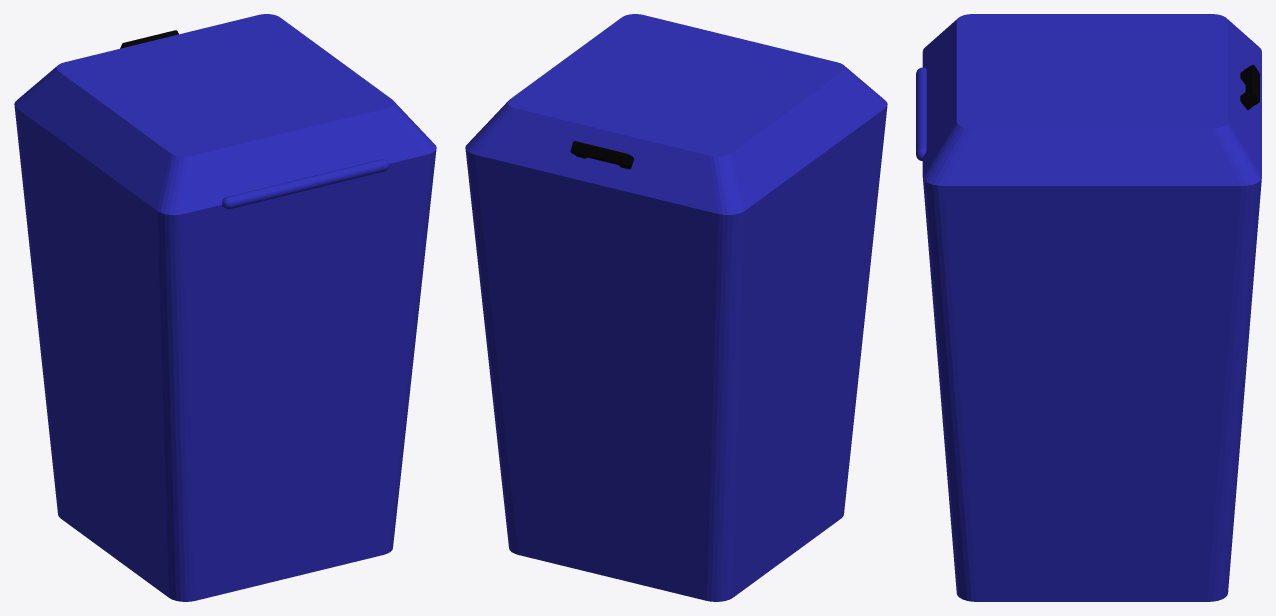
Rendered from Trash.fbx.
The picture shows the model from 3 angles, left to right: view 1: azimuth 30°, elevation 25°; view 2: azimuth 150°, elevation 25°; view 3: azimuth 270°, elevation 25°; orthographic projection. The views are drawn at different scales.
Visible parts, largest first — view 1: Trash; view 2: Trash; view 3: Trash.
Part boxes in pixels (bbox=[...]): Trash: bbox=[14, 14, 436, 601]; Trash: bbox=[465, 14, 887, 601]; Trash: bbox=[916, 14, 1261, 601].
Bounding box in the file's own units: 50 × 51 × 77.
